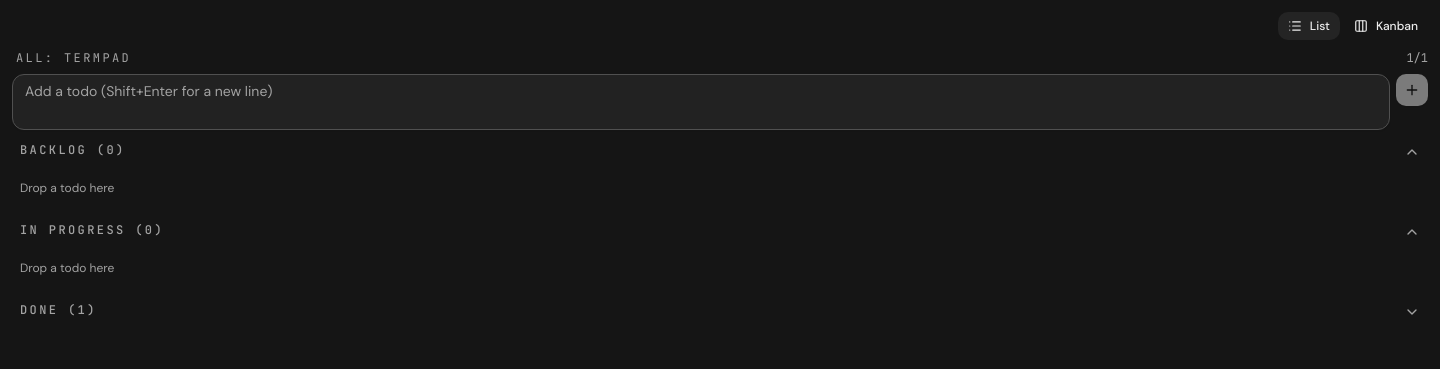
Test case: TodosPanel › un-completes a todo from the Done accordion
Click the button "Done (1)": (39, 310) [12, 296, 1428, 324]
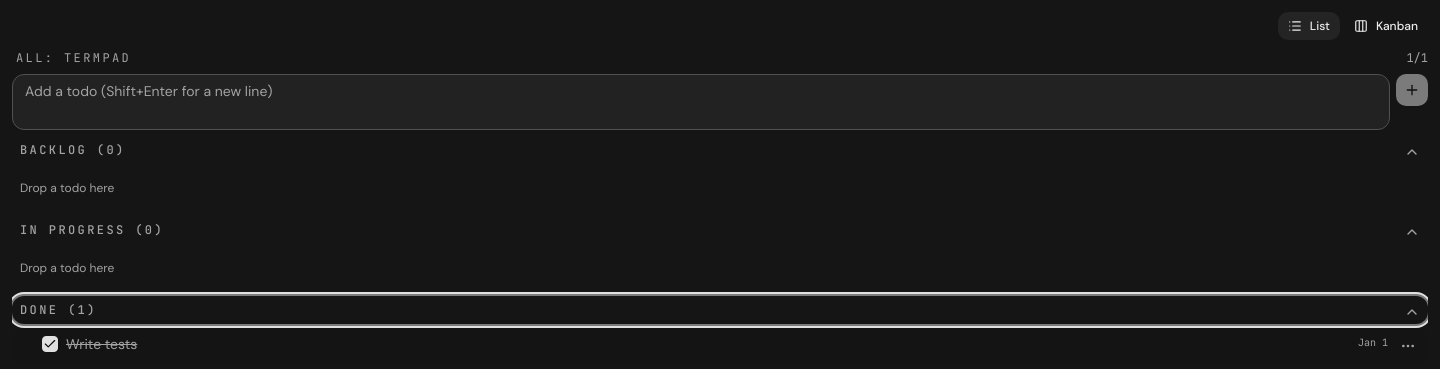
Click the checkbox named "Write tests": (50, 344) [42, 336, 58, 352]
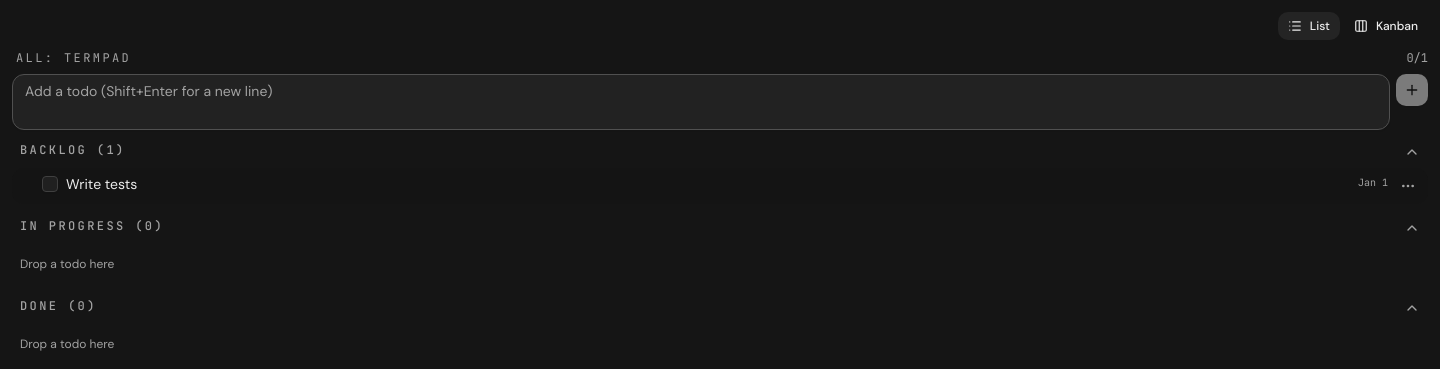
Now the checkbox named "Write tests" is shown, box [42, 176, 58, 192]
Now the button "Done (0)" is shown, box [12, 292, 1428, 320]
